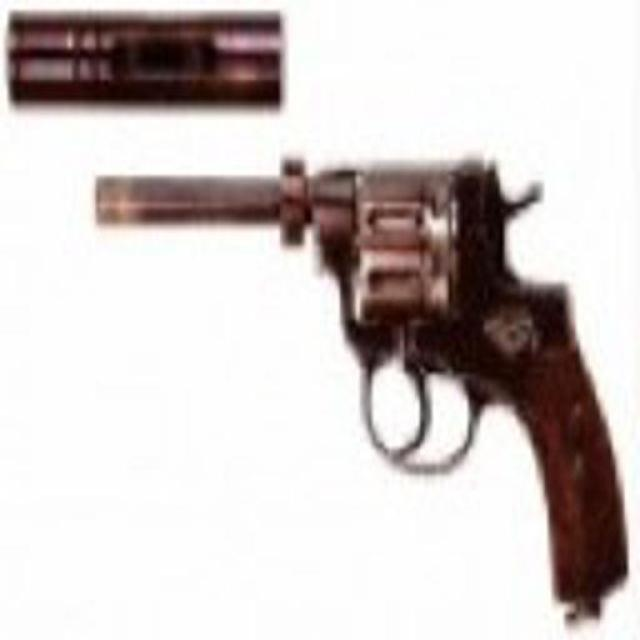pistol: (95, 144, 620, 603)
